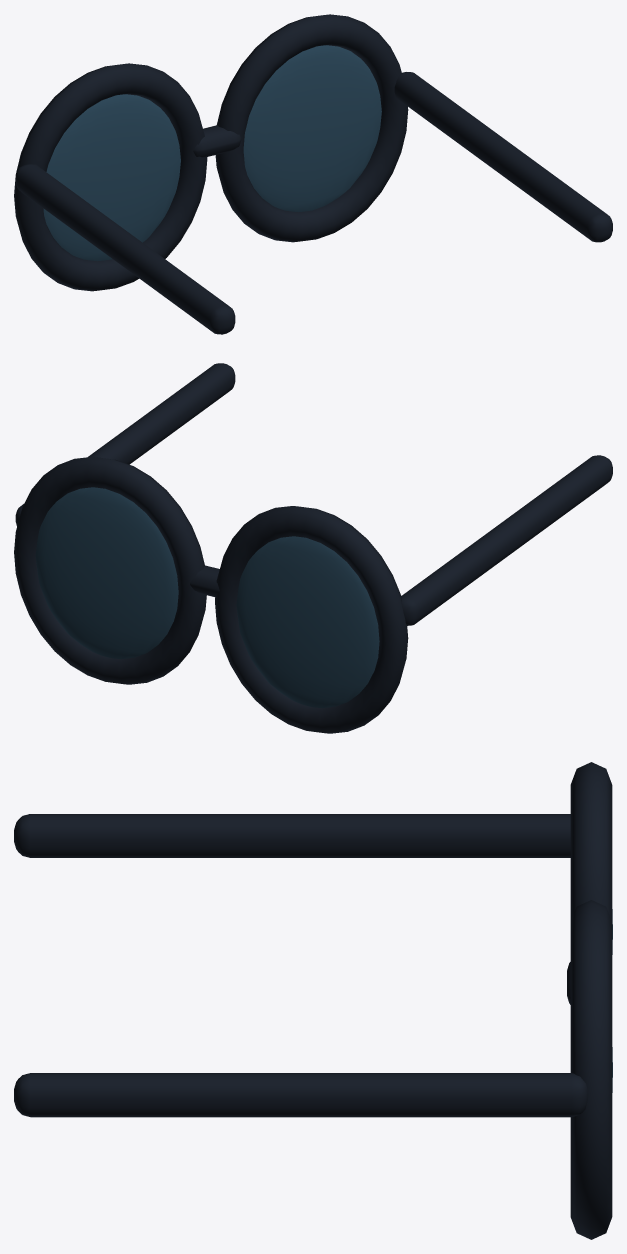
File: accessory-desert.glb
3 views of the same model, one above another, from view 1: azimuth 30°, elevation 25°; view 2: azimuth 150°, elevation 25°; view 3: azimuth 270°, elevation 25° (orthographic). The views are drawn at different scales.
Visible parts, largest first — view 1: Shade lens R, Shade frame R, Shade frame L, Shade lens L, Shades temple, Shades temple.001, Shades bridge; view 2: Shade lens L, Shade lens R, Shade frame L, Shade frame R, Shades temple, Shades temple.001, Shades bridge; view 3: Shades temple.001, Shades temple, Shade frame R, Shade frame L.
Boxes of the visible parts, left/top/right/bottom form: Shade lens R: left=243, top=45, right=381, bottom=212; Shade frame R: left=215, top=14, right=408, bottom=242; Shade frame L: left=14, top=63, right=207, bottom=291; Shade lens L: left=43, top=94, right=180, bottom=261; Shades temple: left=15, top=164, right=235, bottom=334; Shades temple.001: left=394, top=72, right=612, bottom=242; Shades bridge: left=193, top=125, right=241, bottom=157; Shade lens L: left=236, top=536, right=379, bottom=708; Shade lens R: left=35, top=487, right=178, bottom=659; Shade frame L: left=215, top=506, right=408, bottom=733; Shade frame R: left=14, top=457, right=206, bottom=684; Shades temple: left=401, top=455, right=612, bottom=625; Shades temple.001: left=15, top=363, right=235, bottom=526; Shades bridge: left=190, top=565, right=219, bottom=596; Shades temple.001: left=14, top=1073, right=587, bottom=1117; Shades temple: left=14, top=814, right=570, bottom=857; Shade frame R: left=570, top=900, right=612, bottom=1239; Shade frame L: left=570, top=762, right=612, bottom=921.
Size of the model in its own units: 1 by 0.5309 by 0.918.
